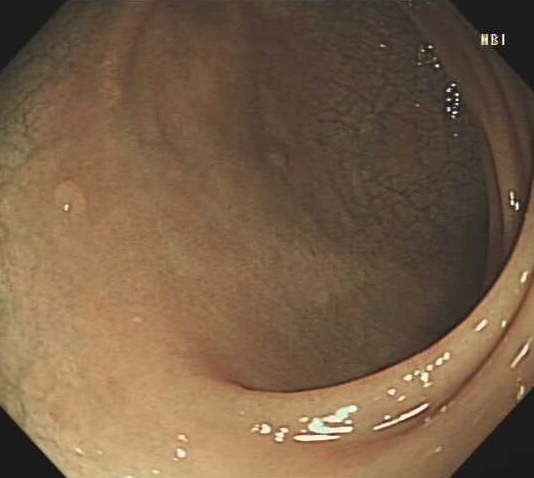adenoma: (49, 178, 90, 218)
